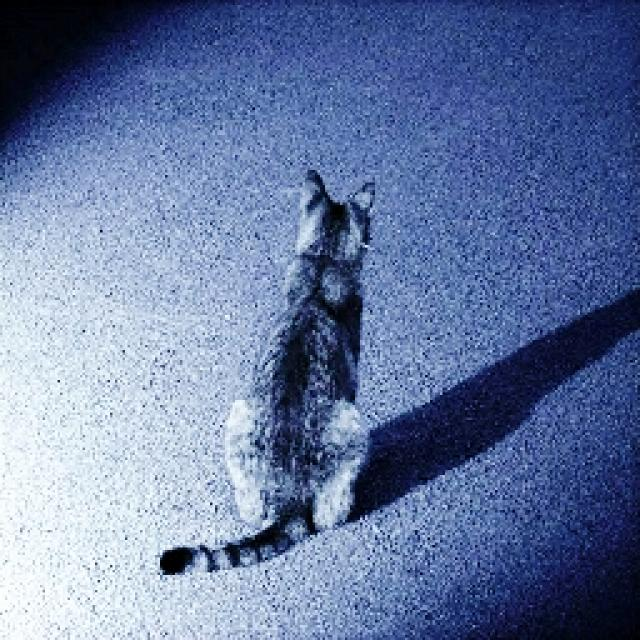cat: (124, 141, 428, 585)
